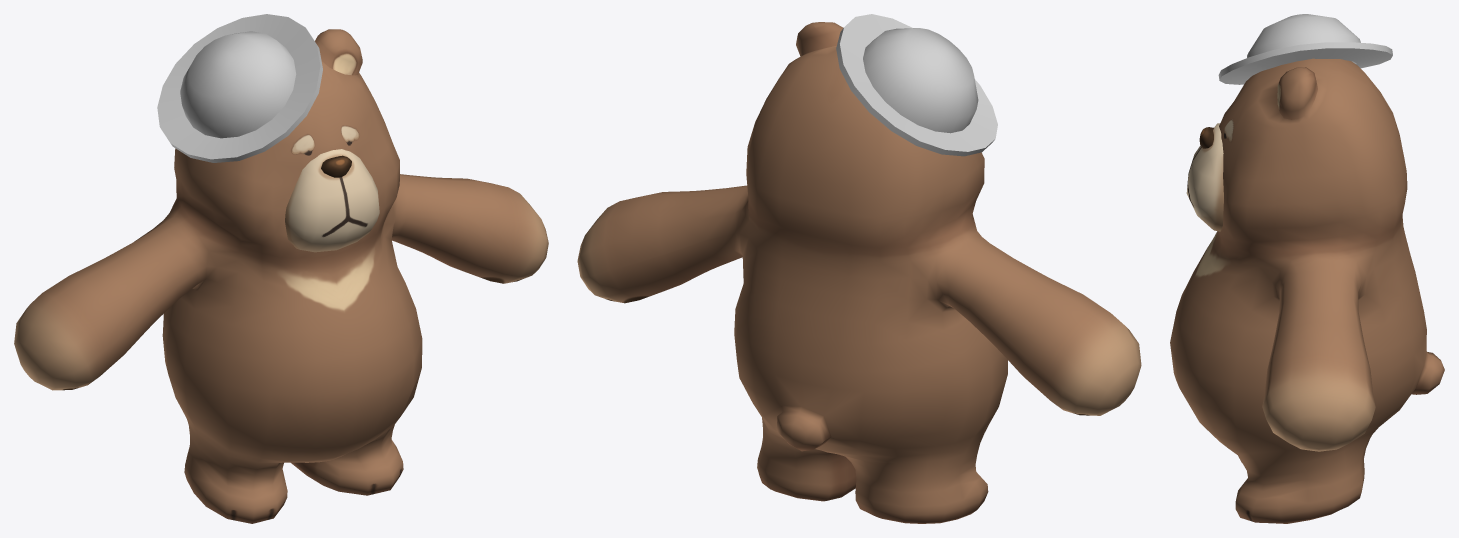
The model's file is bear_Lv1.fbx.
The picture shows the model from 3 angles, left to right: view 1: azimuth 30°, elevation 25°; view 2: azimuth 150°, elevation 25°; view 3: azimuth 270°, elevation 25°; orthographic projection. The views are drawn at different scales.
Parts seen in each view (by area): view 1: bear, hat; view 2: bear, hat; view 3: bear, hat.
Part boxes in pixels (x1,y1,x2,y2): bear: (14, 29, 548, 523); hat: (157, 14, 322, 162); bear: (577, 22, 1141, 523); hat: (836, 14, 997, 156); bear: (1170, 58, 1444, 523); hat: (1218, 14, 1392, 84).
Bounding box in the file's own units: 212 × 181 × 100.
